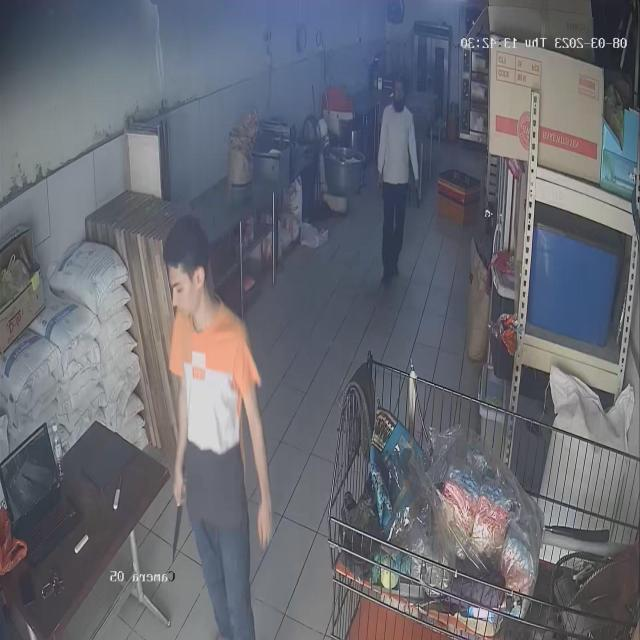Knife: (161, 488, 200, 584)
